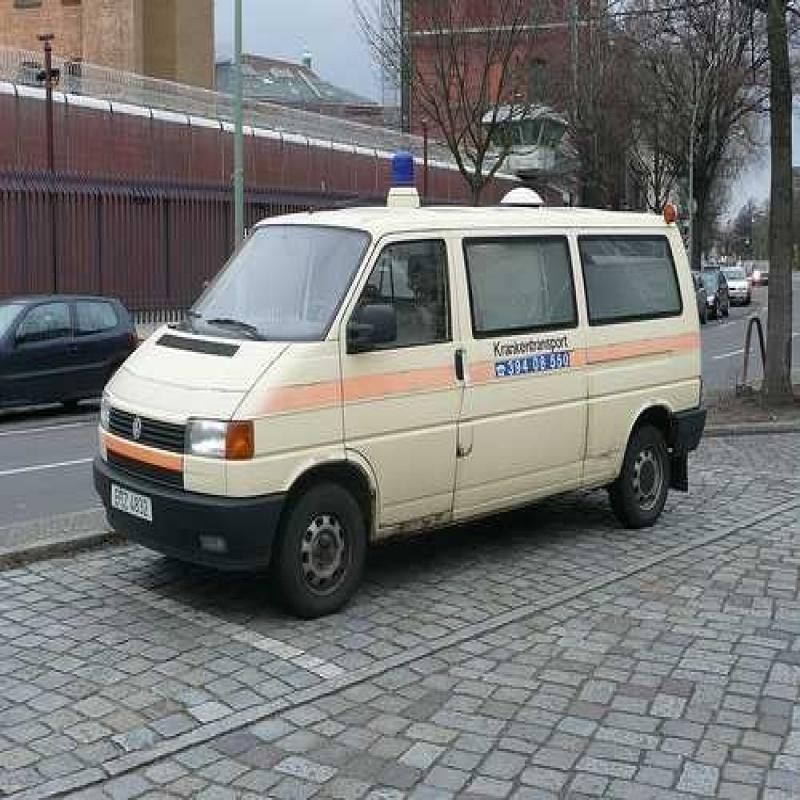AmbulanceSiren: (384, 136, 428, 200)
